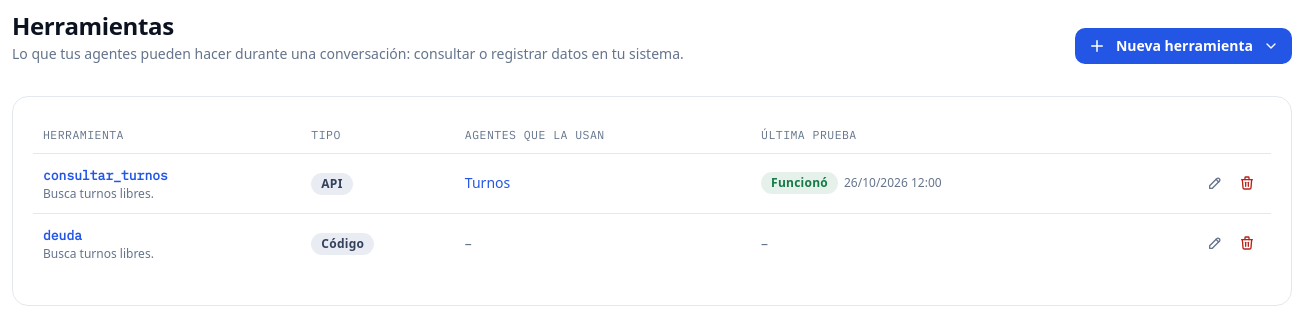
ToolsPage › lista las herramientas con tipo, agentes y última prueba; el código bloqueado por el plan
Expected: the text "API" is shown, [321,174,342,194]
Expected: the text "Funcionó" is shown, [771,174,828,194]
Click the button "Nueva herramienta".
click(1184, 46)  # box [1075,28,1292,64]
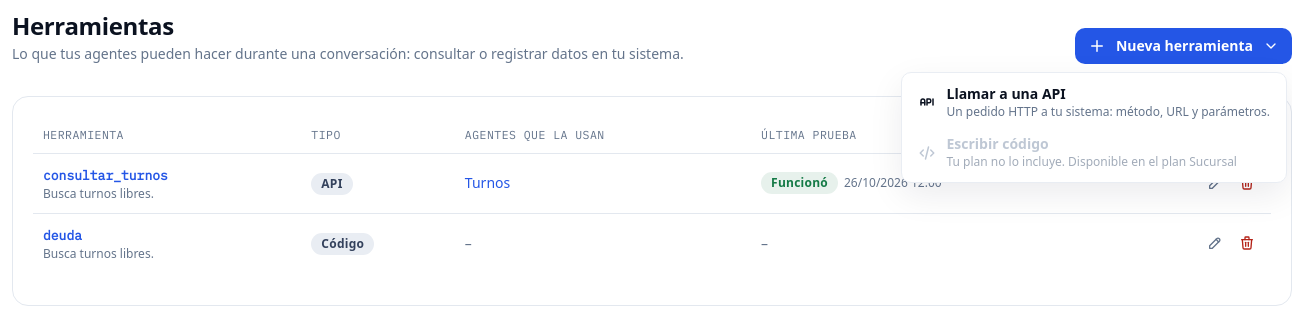
Now the menu item "Llamar a una API" is enabled, box [906,77,1282,127]
